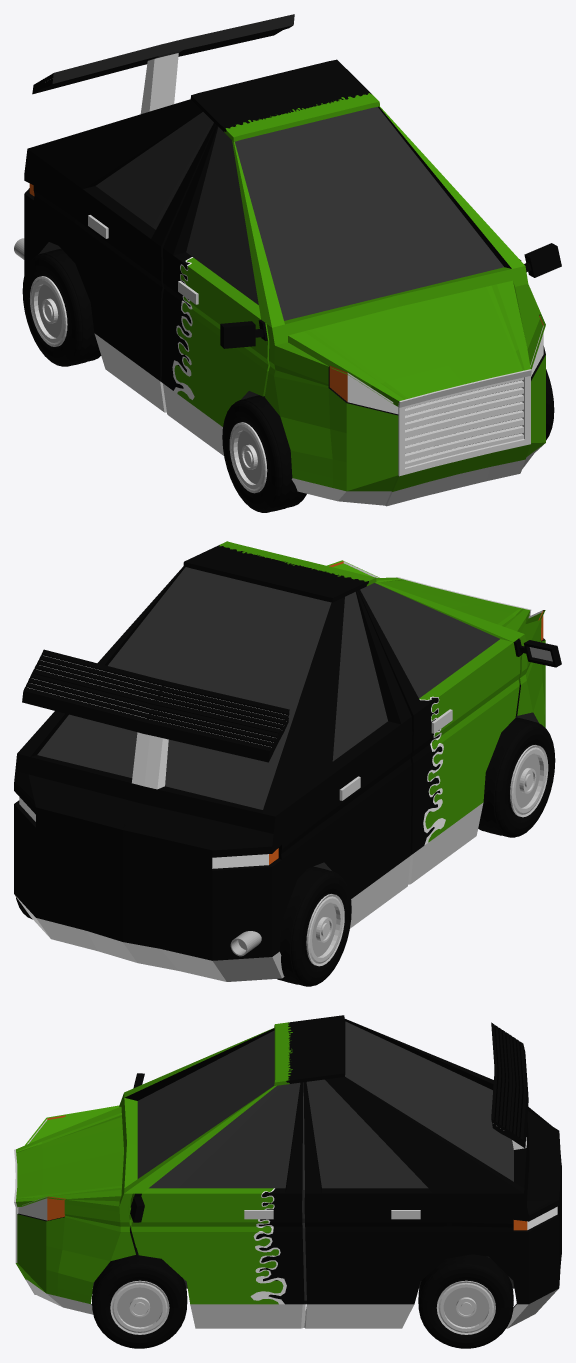
Rendered from CR-CAR-23B.fbx.
The picture shows the model from 3 angles, top to bottom: view 1: azimuth 30°, elevation 25°; view 2: azimuth 150°, elevation 25°; view 3: azimuth 270°, elevation 25°; orthographic projection. The views are drawn at different scales.
Visible parts, largest first — view 1: BODY, WHEEL.001, WHEEL.004; view 2: BODY, WHEEL.001, WHEEL.004, SHACMAN; view 3: BODY, WHEEL.002, WHEEL.003.
Boxes of the visible parts, x1,y1,x2,y2 form: BODY: (24, 14, 561, 506); WHEEL.001: (222, 395, 306, 512); WHEEL.004: (22, 248, 101, 366); BODY: (14, 541, 561, 981); WHEEL.001: (478, 717, 555, 837); WHEEL.004: (277, 866, 351, 986); SHACMAN: (230, 931, 261, 956); BODY: (14, 1015, 561, 1328); WHEEL.002: (418, 1254, 513, 1348); WHEEL.003: (92, 1255, 187, 1348).
Bounding box in the file's own units: 131 × 114 × 224.
